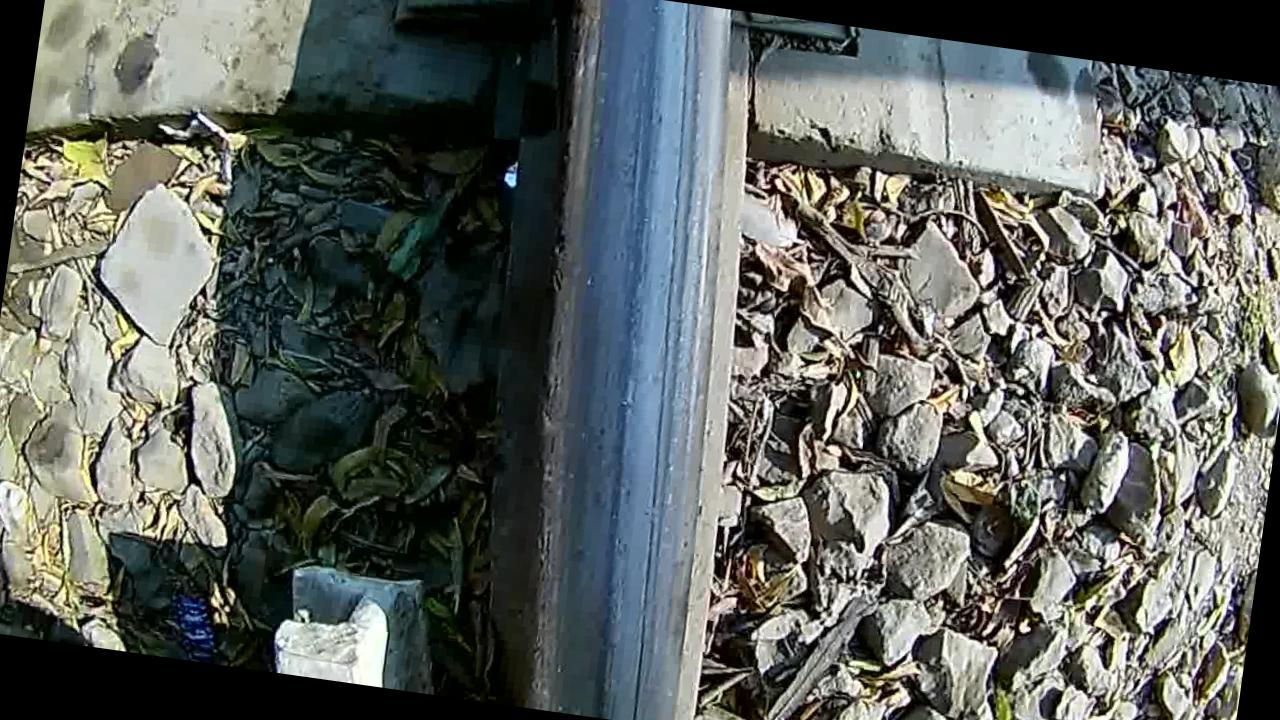clip_missing: (483, 0, 808, 720)
